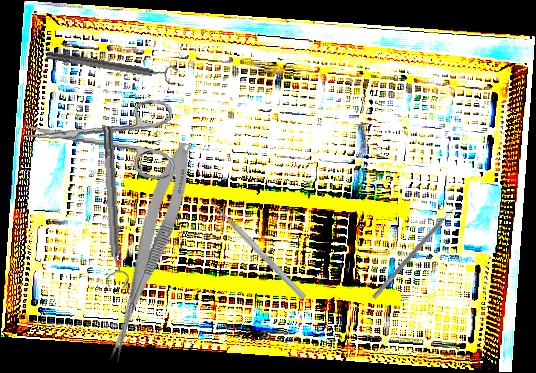Fixation Ring: (45, 43, 179, 88), (96, 124, 130, 289)
Iris Scissors: (21, 89, 181, 181)
Micro Scissor: (101, 138, 200, 367)
Pusher: (204, 194, 308, 301)
Spatula Surgical: (371, 202, 461, 304)
